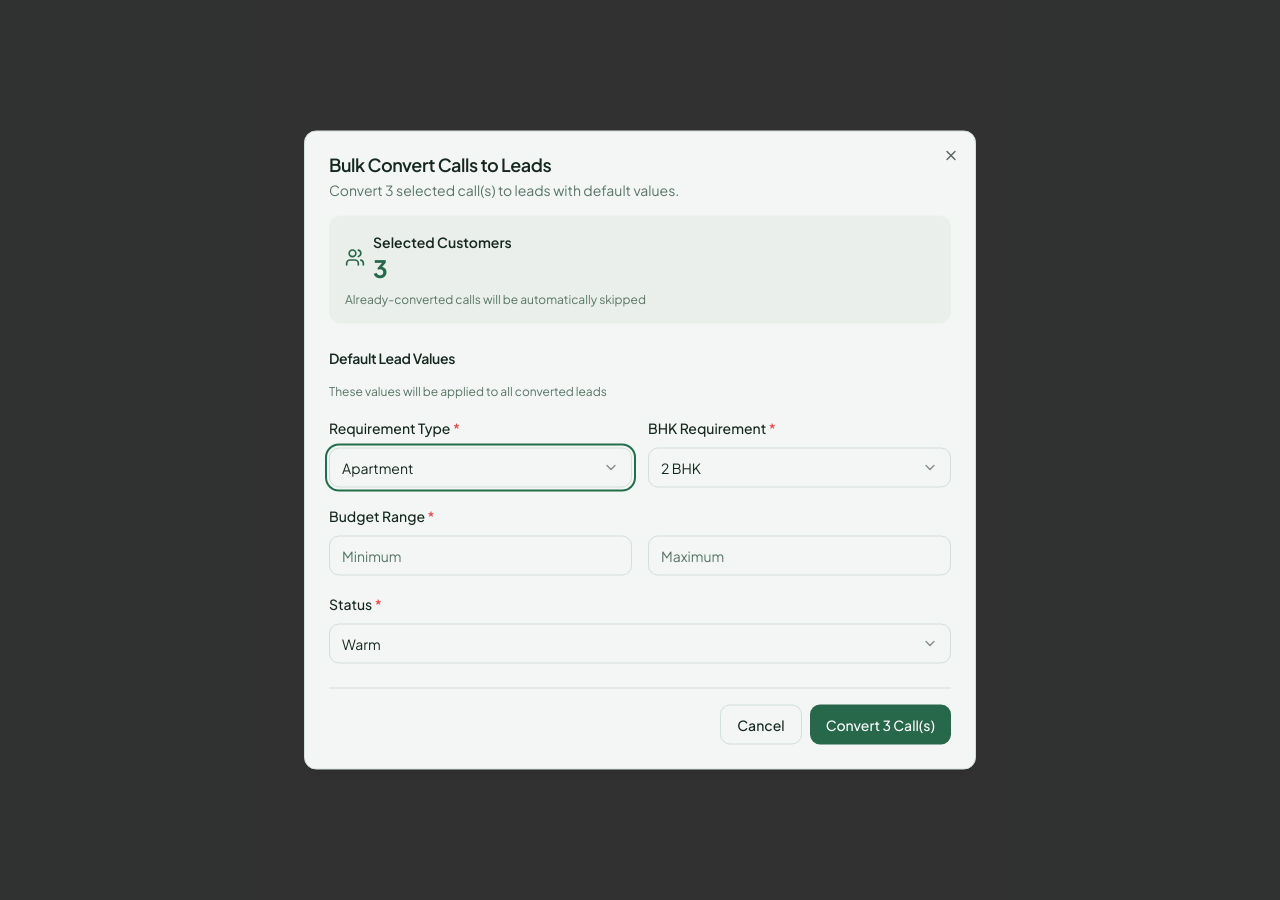
Test: BulkConversionModal › validates budget range (min <= max)
Type "5000000" into the number field with placeholder "Minimum".
click(480, 556); type("5000000")  # box [329,536,632,576]
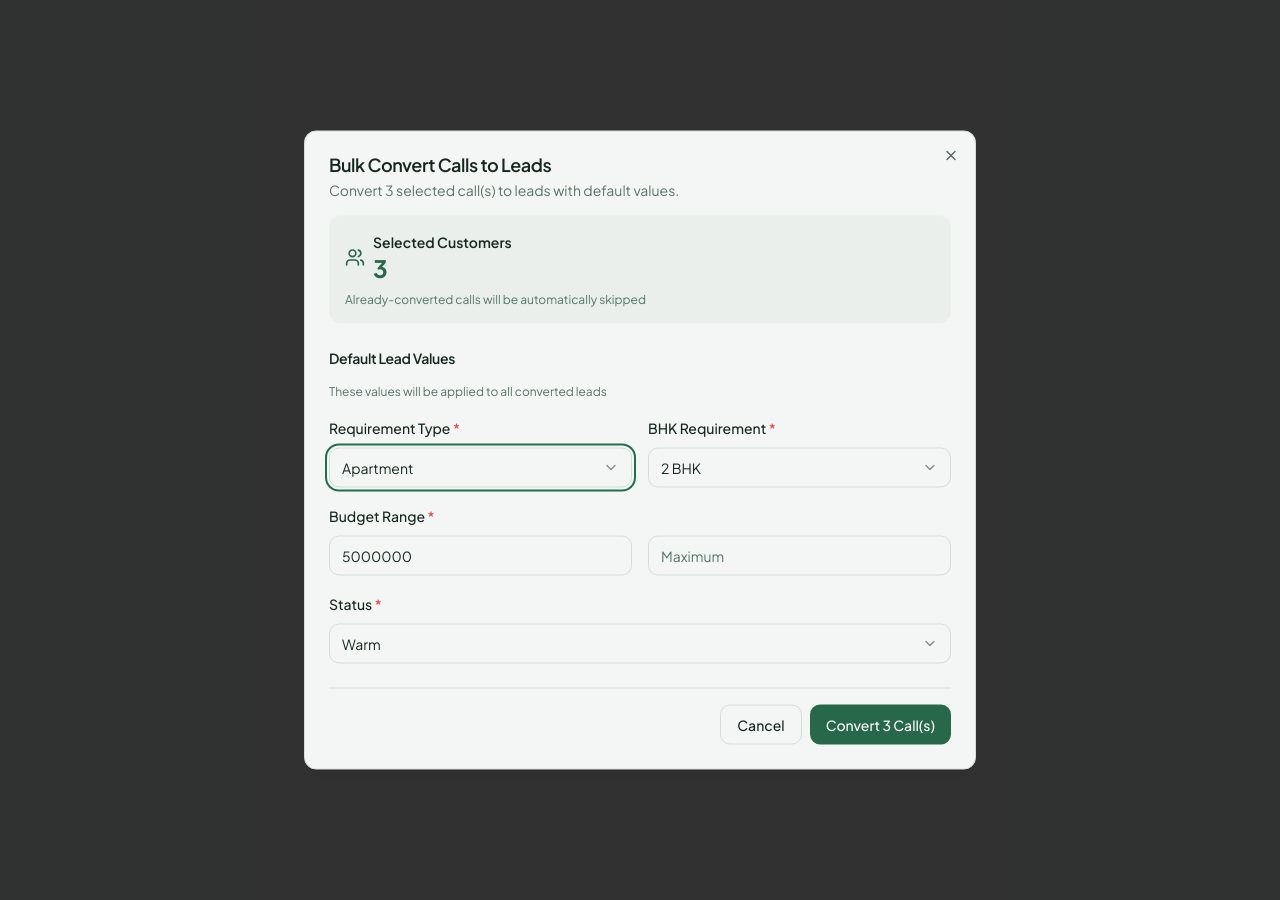
Type "3000000" into the number field with placeholder "Maximum".
click(800, 556); type("3000000")  # box [648,536,951,576]
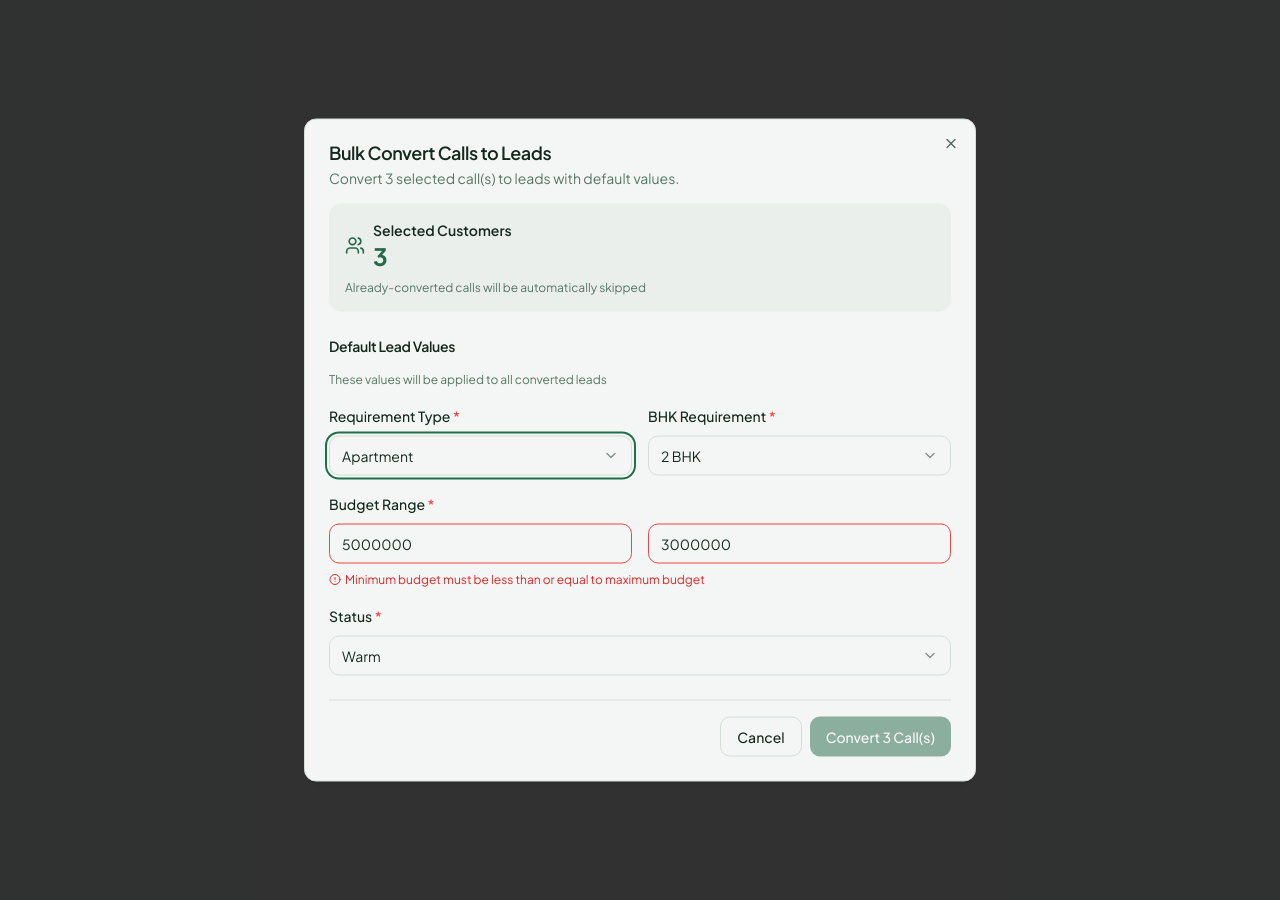
Result: the text "Minimum budget must be less than or equal to maximum budget" is shown at [329,572,705,586]
